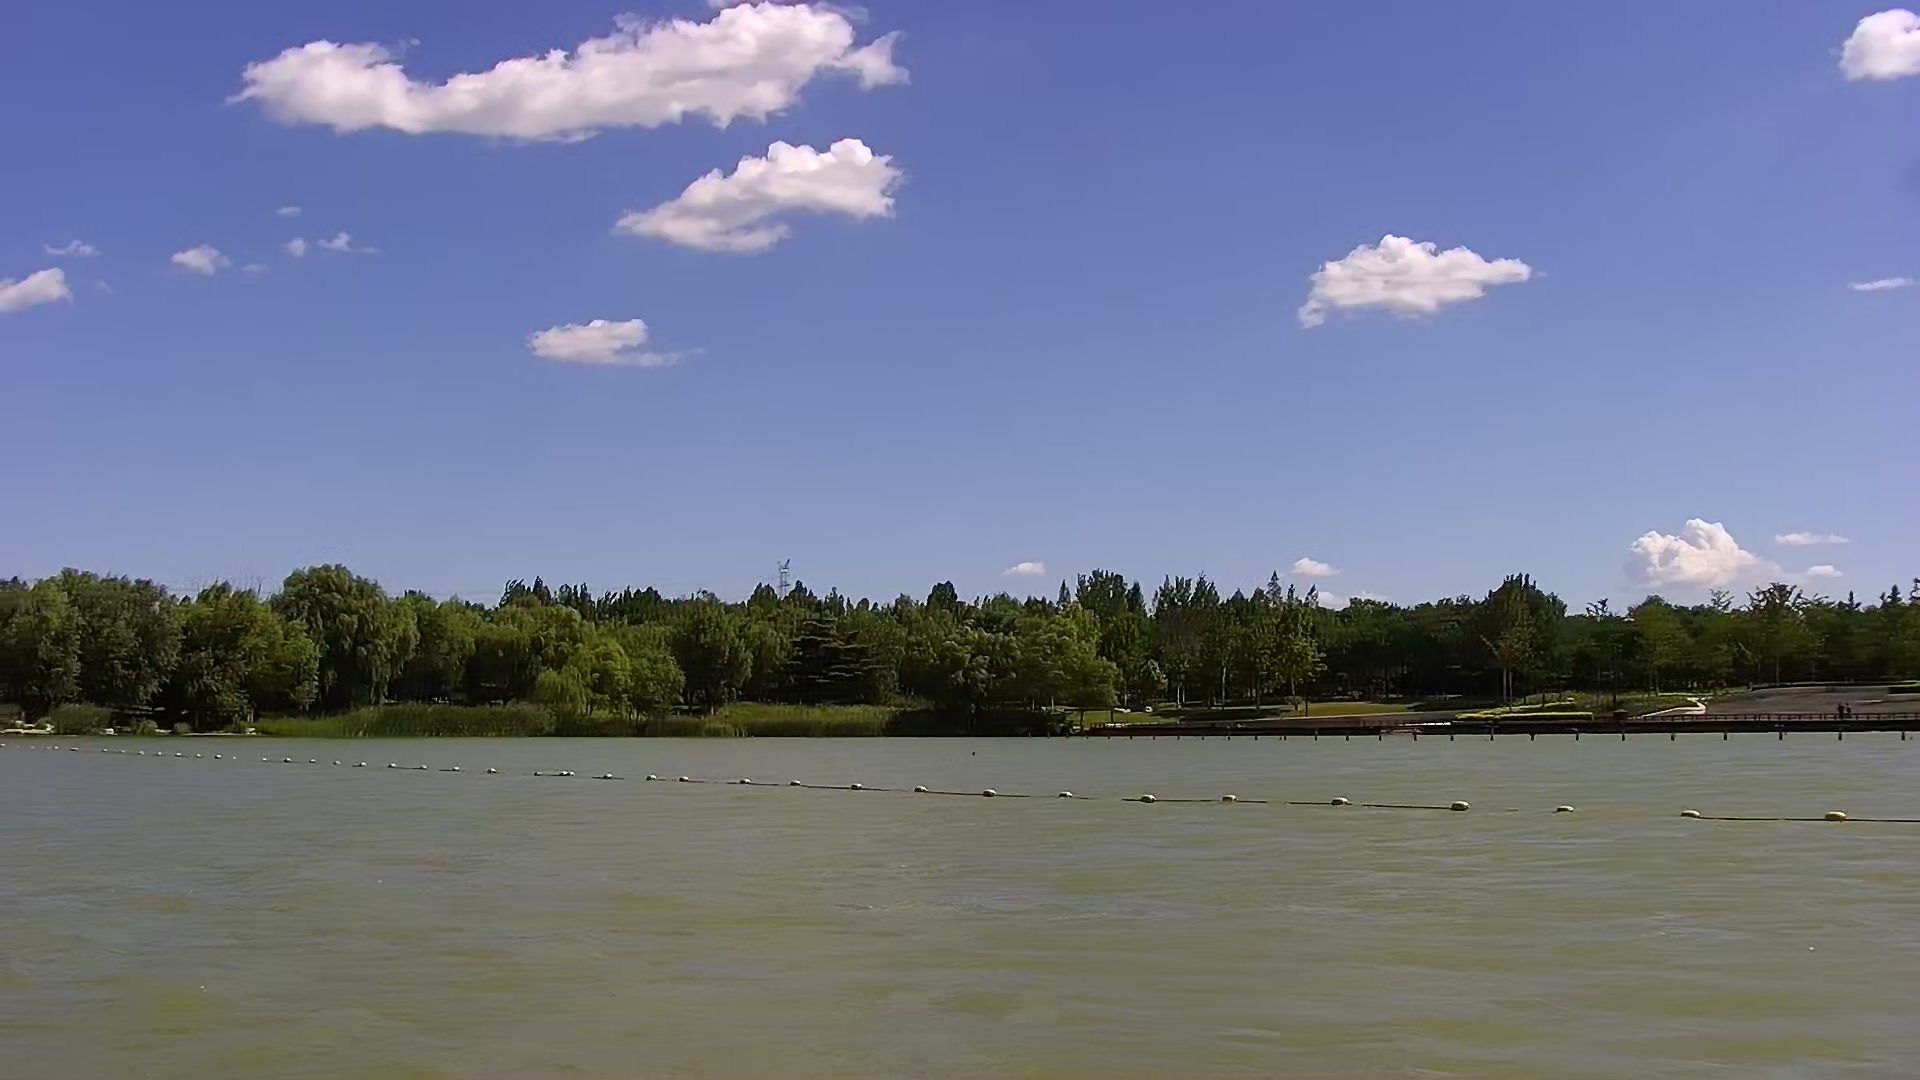ball: (1813, 794, 1865, 836), (1443, 782, 1484, 825), (1131, 774, 1167, 810), (1321, 785, 1365, 814), (1677, 798, 1706, 833), (1207, 785, 1247, 808)
